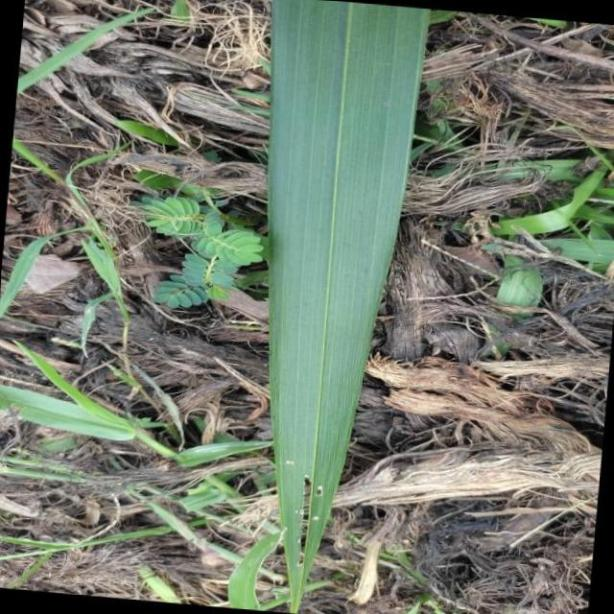Boron: (267, 1, 431, 614)
